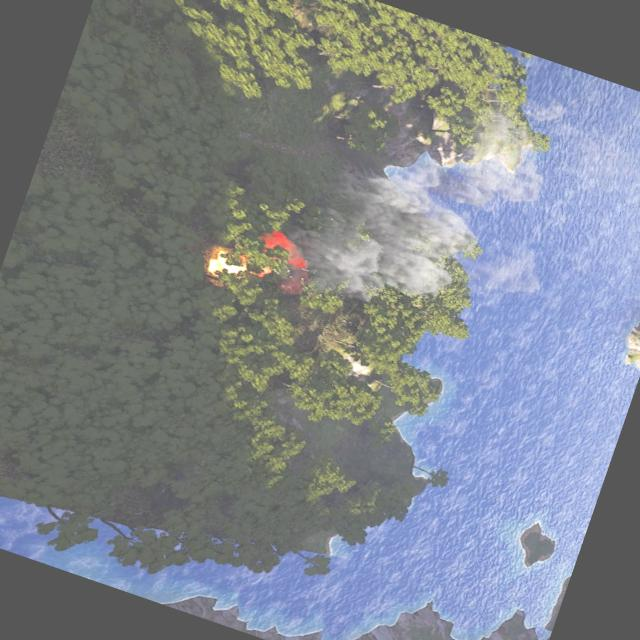fire: (198, 238, 273, 296)
smoke: (277, 61, 548, 350), (246, 228, 313, 290)
